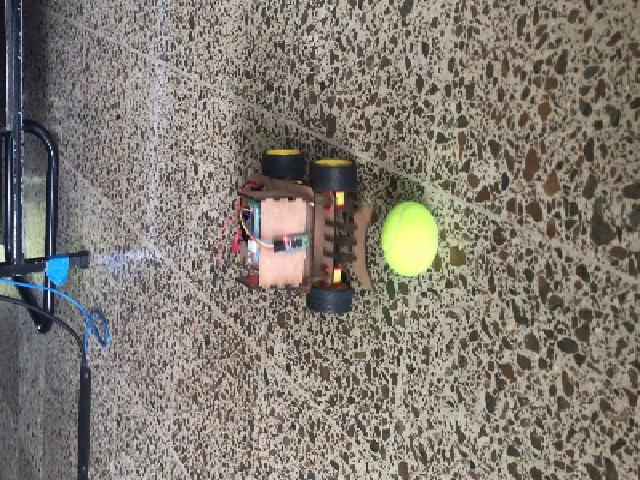Ball: (381, 202, 437, 275)
Robot: (234, 149, 373, 313)
